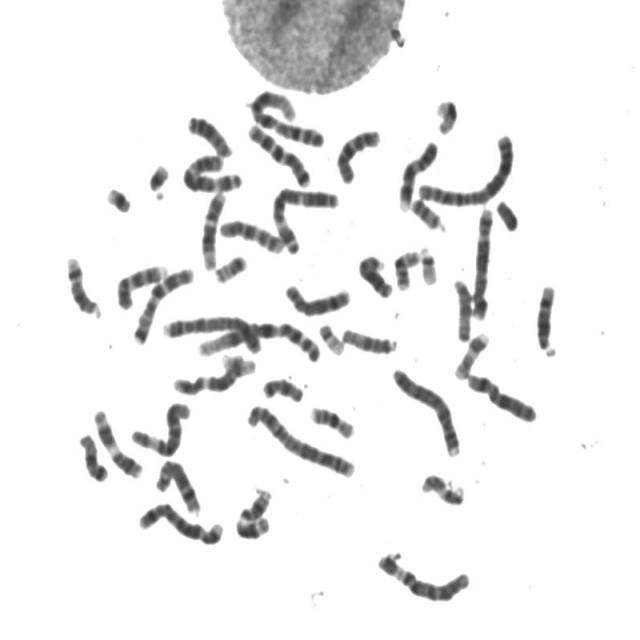A1: (190, 312, 324, 363), (244, 82, 327, 150)
A2: (240, 396, 358, 480), (411, 126, 517, 208)
A3: (266, 179, 342, 256), (177, 145, 246, 194)
B4: (386, 360, 464, 460), (156, 307, 266, 356)
B5: (132, 495, 225, 547), (466, 200, 495, 320)
C10: (331, 121, 383, 185), (216, 211, 286, 256)
C11: (88, 402, 146, 481), (230, 482, 274, 541)
C12: (168, 348, 252, 398), (195, 184, 228, 271)
C6: (372, 545, 474, 605), (126, 394, 193, 459)
C7: (126, 259, 196, 346), (242, 116, 314, 189)
C8: (150, 452, 202, 515), (279, 276, 353, 318)
C9: (393, 132, 441, 213), (111, 255, 170, 311)
D13: (182, 106, 234, 160), (353, 248, 394, 300)
D14: (60, 248, 103, 320), (530, 276, 560, 358)
D15: (336, 320, 400, 356), (448, 270, 474, 344)
E16: (305, 398, 357, 442), (389, 242, 422, 292)
E17: (449, 324, 491, 381), (415, 466, 467, 508)
E18: (74, 426, 110, 484), (256, 369, 306, 404)
F19: (430, 91, 460, 136), (216, 346, 258, 377)
F20: (406, 191, 447, 232), (209, 247, 249, 285)
G21: (142, 154, 171, 200), (99, 177, 134, 215)
G22: (314, 317, 347, 357), (414, 239, 440, 287)
X: (461, 365, 540, 425)
Y: (491, 192, 521, 233)
